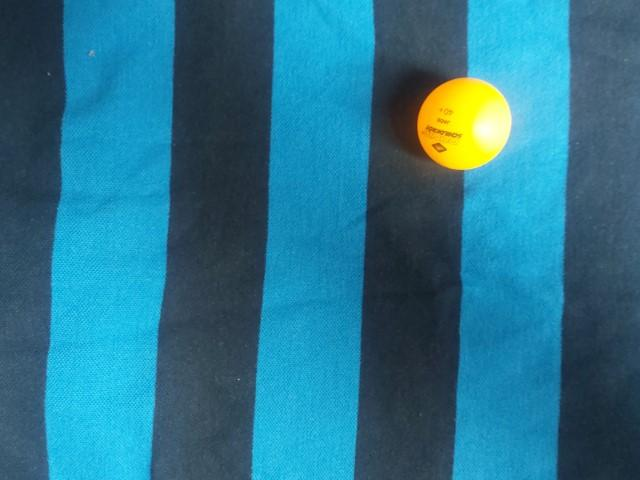oball: (123, 303, 229, 410)
